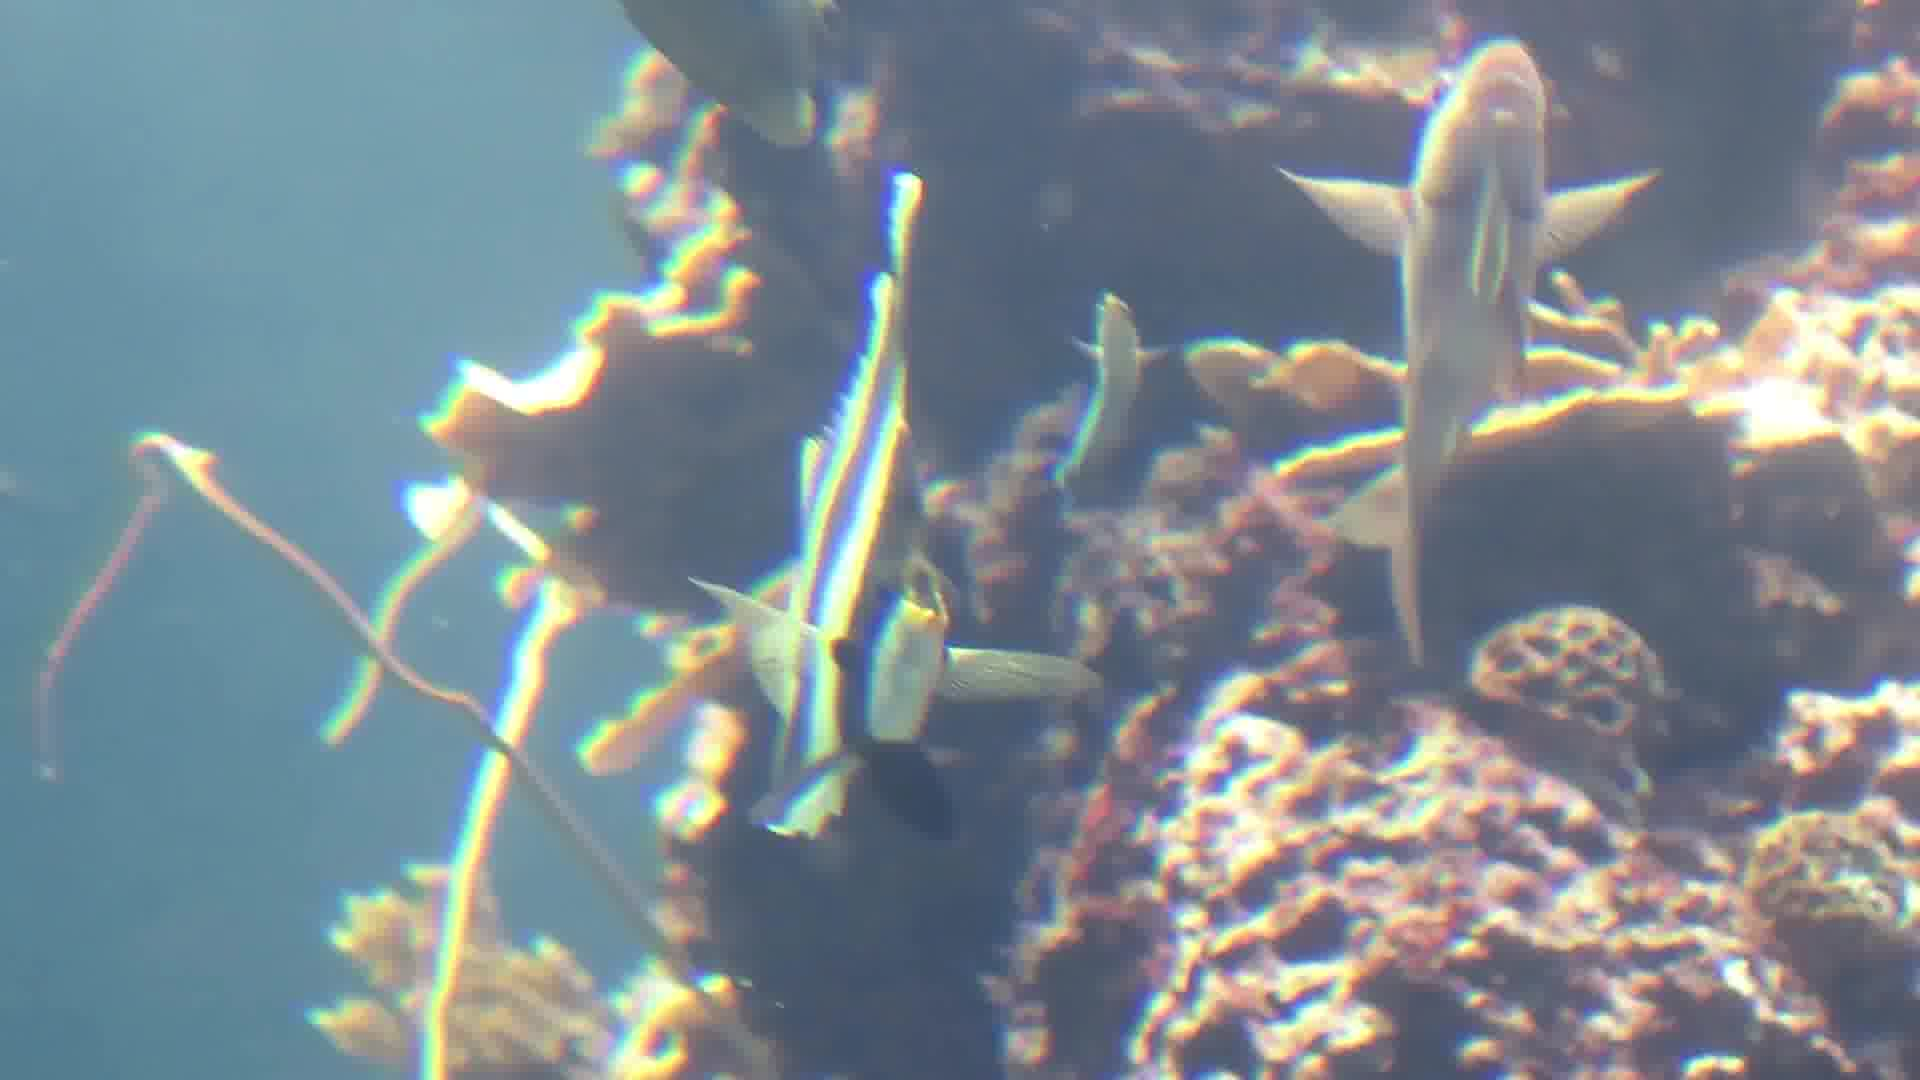Heniochus chrysostomus: (645, 142, 1088, 885)
